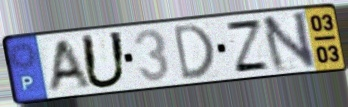3: (132, 26, 172, 85)
A: (46, 37, 93, 94)
D: (171, 21, 217, 83)
N: (259, 8, 319, 75)
U: (78, 30, 130, 91)
Z: (223, 18, 273, 74)
